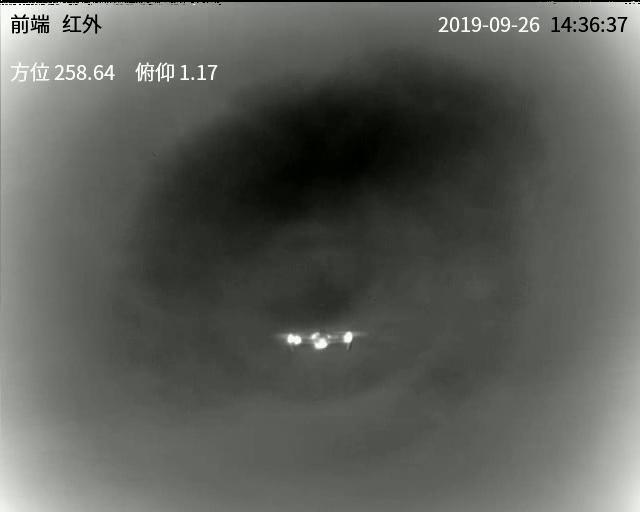DRONE: (286, 330, 357, 353)
